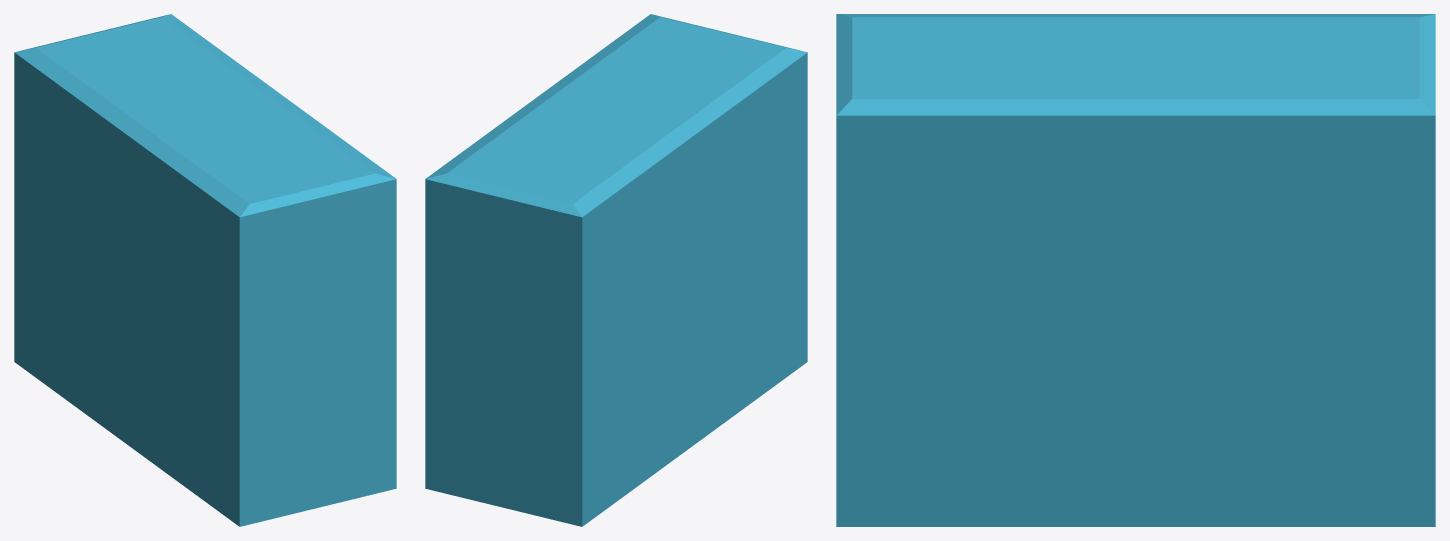
File: Itr_Couch_Outside_Side_05.FBX
3 renders of one model, left to right at view 1: azimuth 30°, elevation 25°; view 2: azimuth 150°, elevation 25°; view 3: azimuth 270°, elevation 25°, orthographic. The views are drawn at different scales.
Visible parts, largest first — view 1: Itr_Couch_Outside_Side_05; view 2: Itr_Couch_Outside_Side_05; view 3: Itr_Couch_Outside_Side_05.
Boxes of the visible parts, box(x1,y1,x2,y2) form: Itr_Couch_Outside_Side_05: box(14, 14, 396, 526); Itr_Couch_Outside_Side_05: box(425, 14, 807, 526); Itr_Couch_Outside_Side_05: box(836, 14, 1435, 526).
Bounding box in the file's own units: 13.12 × 25.52 × 32.64.
